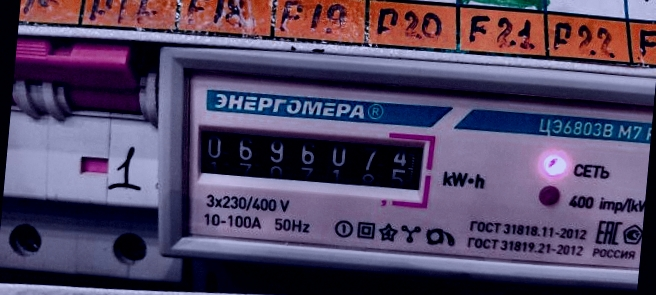0: (203, 132, 223, 158), (329, 140, 347, 167)
4: (391, 145, 407, 167)
5: (389, 166, 405, 187)
6: (298, 137, 316, 166), (234, 134, 254, 160)
7: (360, 144, 378, 171)
9: (266, 136, 285, 164)
screen: (186, 111, 438, 209)
